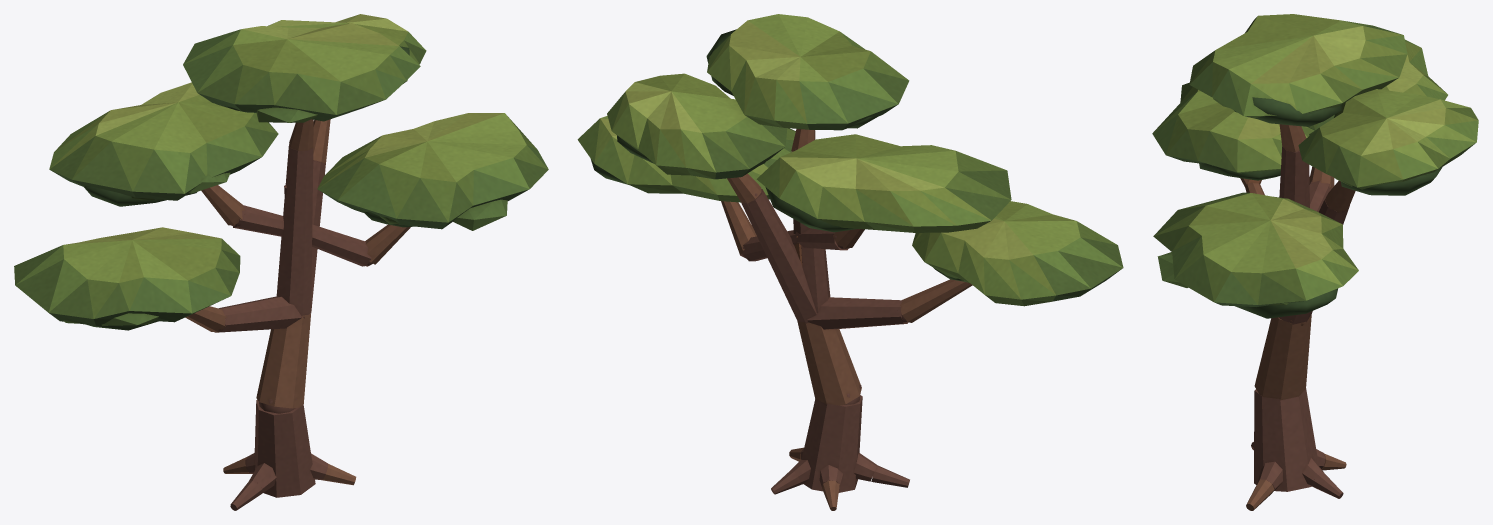
The model's file is Grand_Dojo_Arrival_Pine.glb.
3 views of the same model, side by side, from view 1: azimuth 30°, elevation 25°; view 2: azimuth 150°, elevation 25°; view 3: azimuth 270°, elevation 25° (orthographic). The views are drawn at different scales.
Visible parts, largest first — view 1: Grand Dojo Arrival Pine; view 2: Grand Dojo Arrival Pine; view 3: Grand Dojo Arrival Pine.
Part boxes in pixels (x1,y1,x2,y2): Grand Dojo Arrival Pine: [14, 14, 548, 510]; Grand Dojo Arrival Pine: [577, 14, 1123, 510]; Grand Dojo Arrival Pine: [1152, 14, 1478, 510].
Size of the model in its own units: 13.42 by 10.92 by 7.08.
1 material, 1 textured.
